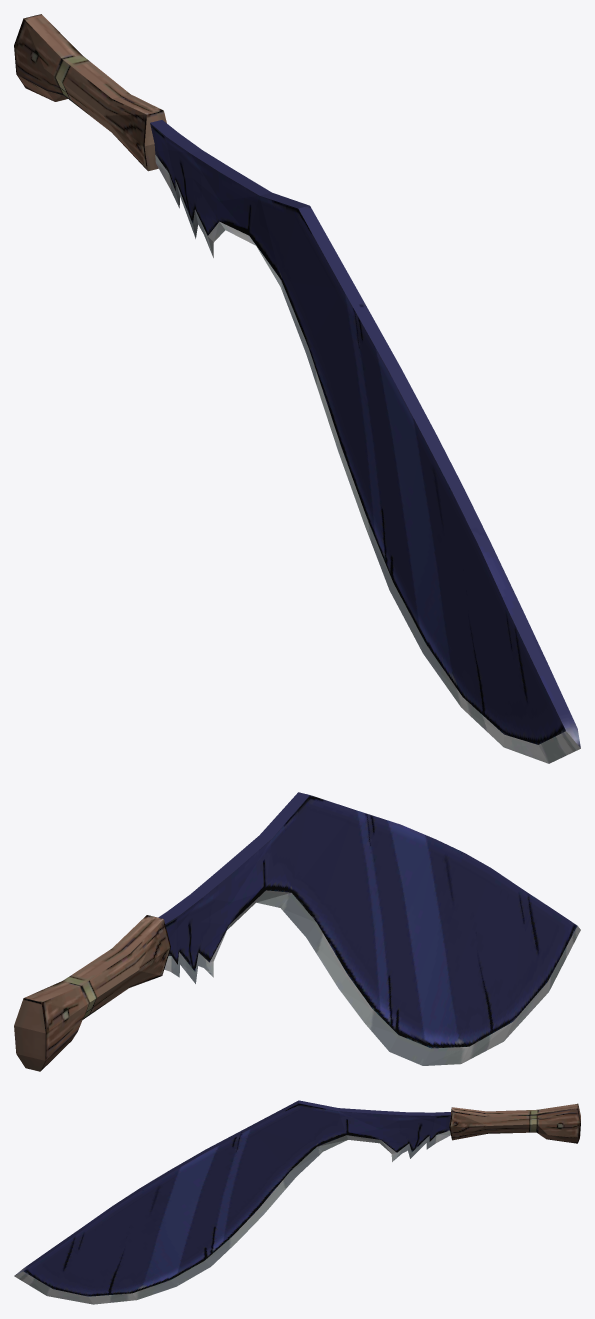
File: weapon_dao.FBX
3 views of the same model, one above another, from view 1: azimuth 30°, elevation 25°; view 2: azimuth 150°, elevation 25°; view 3: azimuth 270°, elevation 25° (orthographic). The views are drawn at different scales.
Visible parts, largest first — view 1: 对象001; view 2: 对象001; view 3: 对象001.
Boxes of the visible parts, x1,y1,x2,y2 form: 对象001: [14, 14, 580, 763]; 对象001: [14, 792, 580, 1071]; 对象001: [14, 1100, 580, 1304].
Size of the model in its own units: 2.66 by 28.99 by 73.47.
